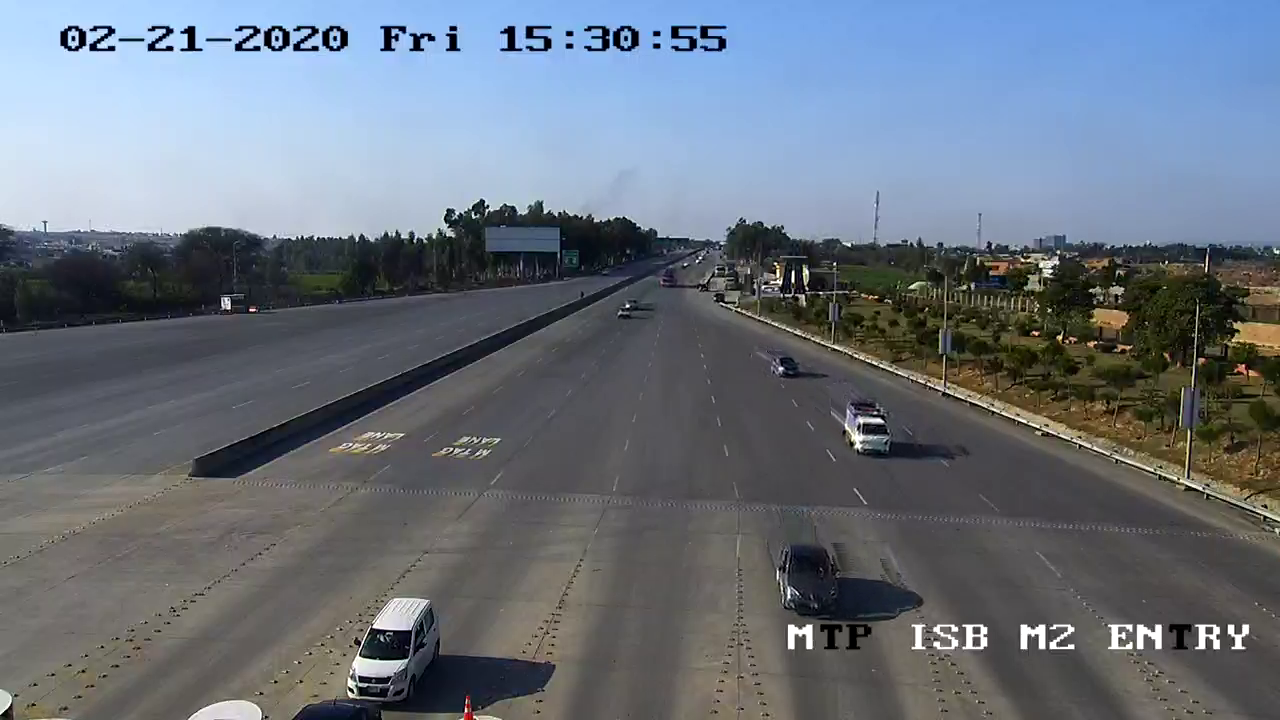f1: (325, 584, 457, 711), (766, 533, 860, 628)
